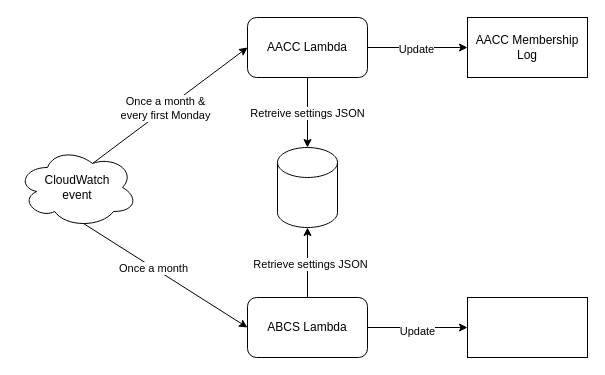
This 605x375 diagram has some shape labels left out. Each missing label, with the centre of its shape:
"ABCS Membership Log" goes at (527,327).
"S3" goes at (307,187).
